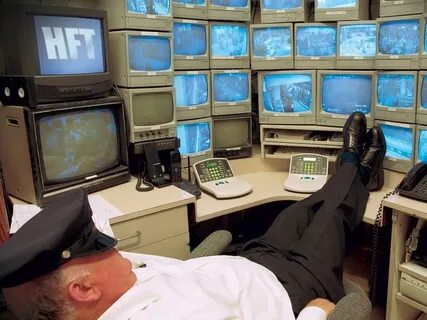sleep: (1, 111, 387, 320)
